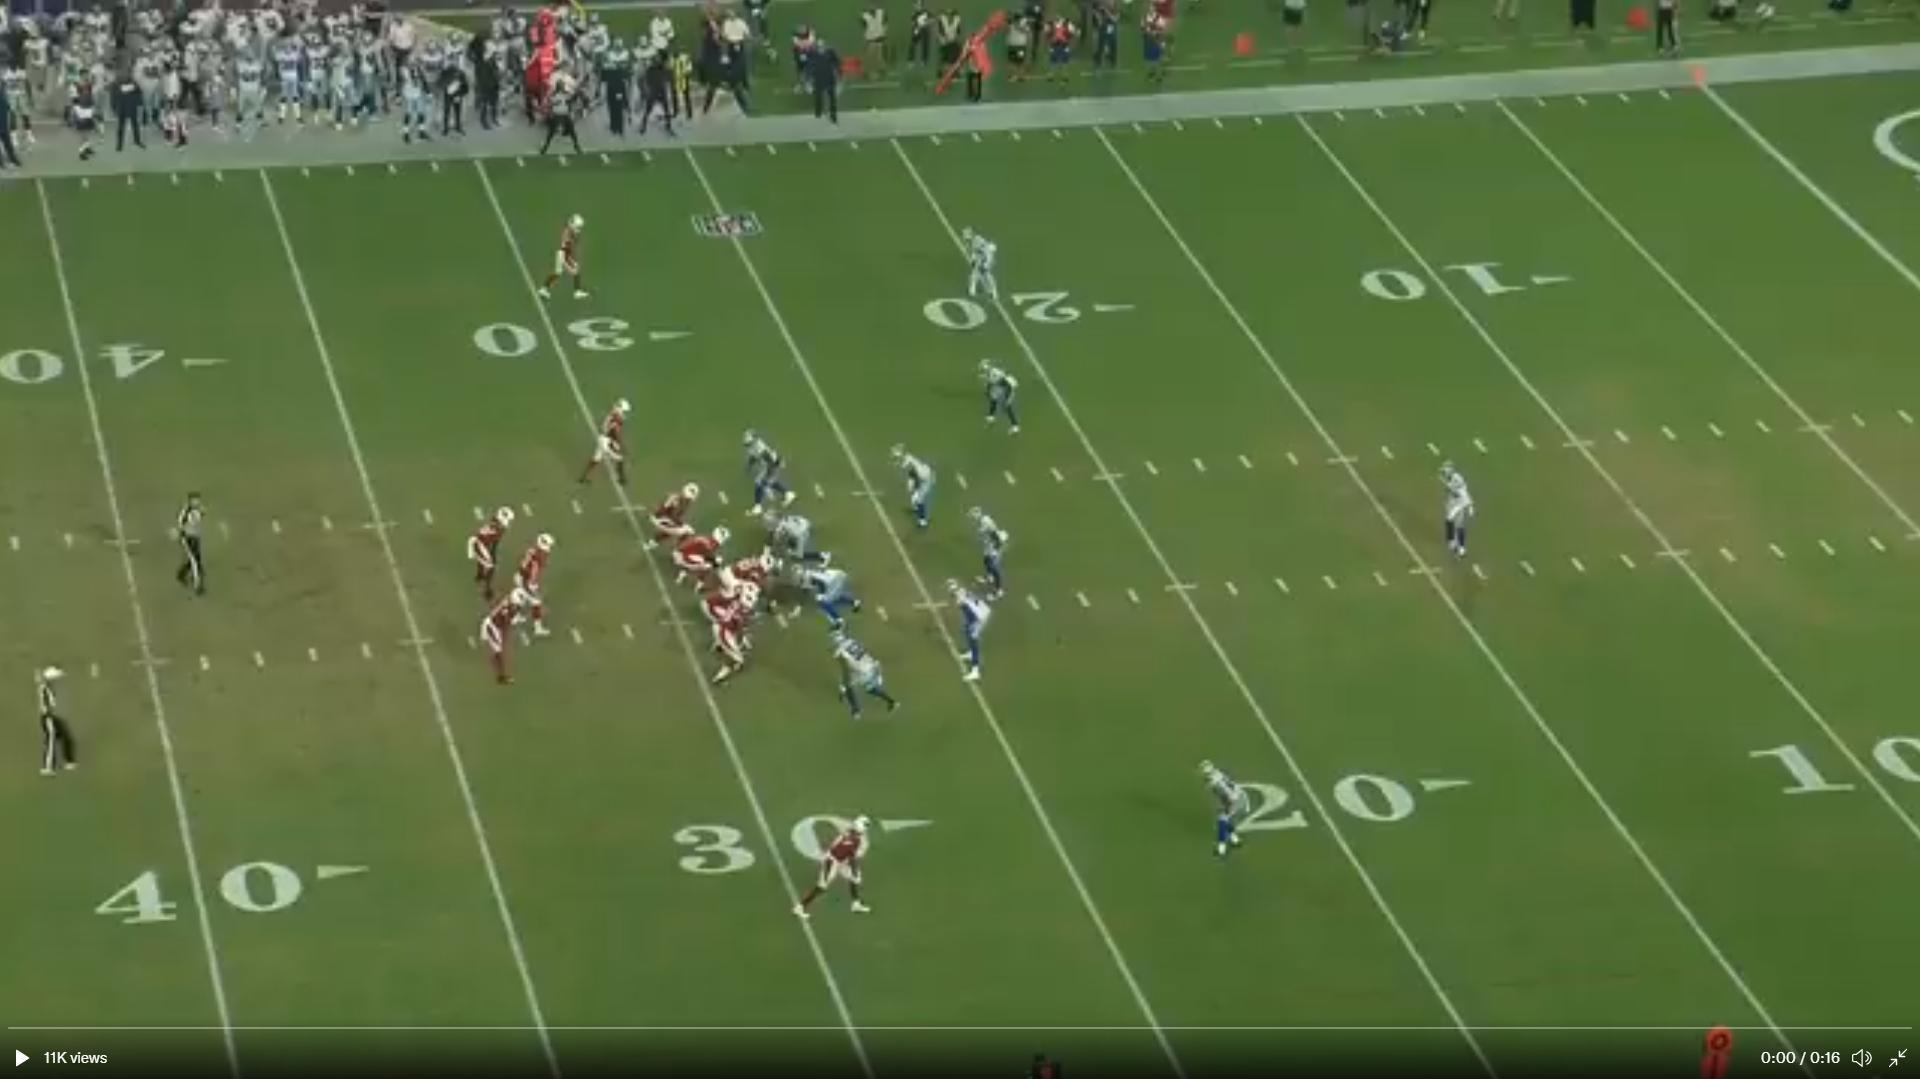player: (796, 816, 877, 930), (830, 626, 904, 727), (474, 583, 529, 691), (536, 208, 595, 308), (465, 507, 519, 614), (739, 427, 799, 522), (791, 563, 866, 636), (576, 394, 633, 489), (1194, 759, 1245, 863), (517, 530, 563, 645), (710, 595, 763, 690), (947, 581, 993, 689), (764, 511, 842, 570), (720, 553, 784, 624), (897, 446, 944, 538), (646, 480, 703, 553), (1441, 462, 1481, 566), (970, 504, 1010, 602), (978, 357, 1023, 442), (958, 223, 1004, 306), (671, 529, 724, 600), (705, 581, 763, 634)
ref: (26, 659, 84, 785), (170, 488, 212, 599), (534, 81, 583, 165)
